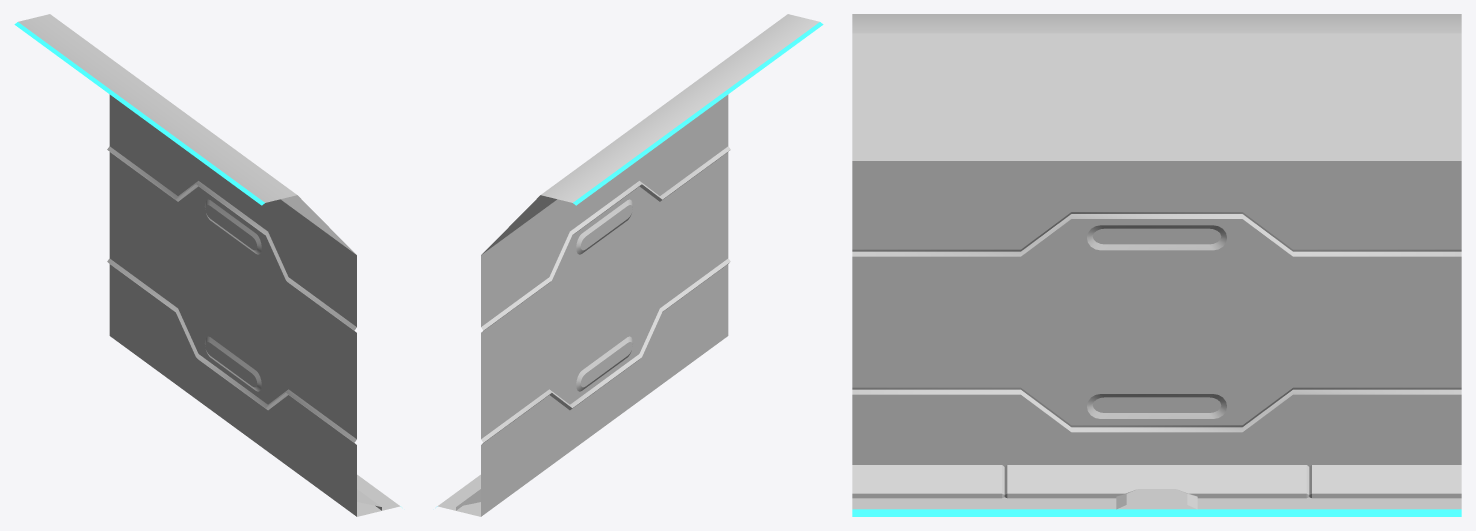
File: SM_WallTile1.fbx
3 views of the same model, side by side, from view 1: azimuth 30°, elevation 25°; view 2: azimuth 150°, elevation 25°; view 3: azimuth 270°, elevation 25° (orthographic). The views are drawn at different scales.
Visible parts, largest first — view 1: Plane.085; view 2: Plane.085; view 3: Plane.085.
Part boxes in pixels (bbox=[...]): Plane.085: bbox=[14, 14, 400, 516]; Plane.085: bbox=[437, 14, 823, 516]; Plane.085: bbox=[852, 14, 1461, 516].
Bounding box in the file's own units: 2 × 6 × 4.56.
